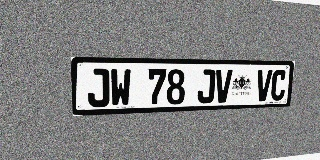7: (147, 69, 167, 105)
8: (166, 69, 186, 105)
C: (270, 70, 287, 101)
J: (87, 69, 109, 108), (197, 69, 216, 104)
V: (214, 69, 233, 103), (255, 70, 273, 101)
W: (110, 69, 131, 107)
